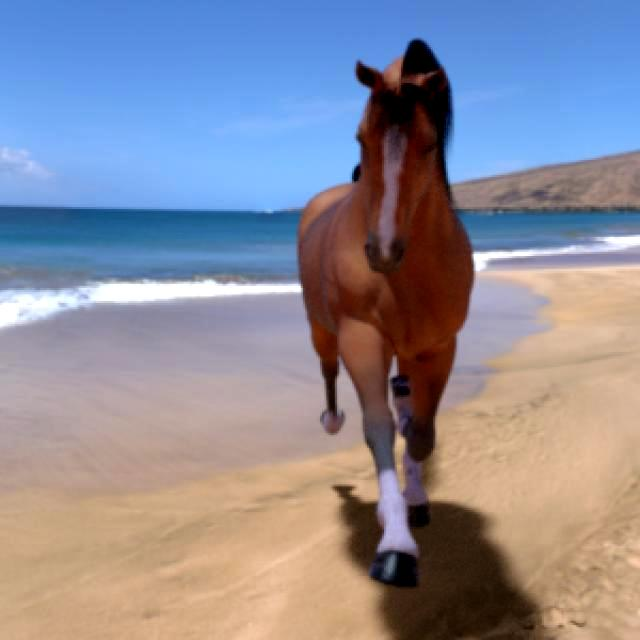horse: (299, 40, 474, 586)
